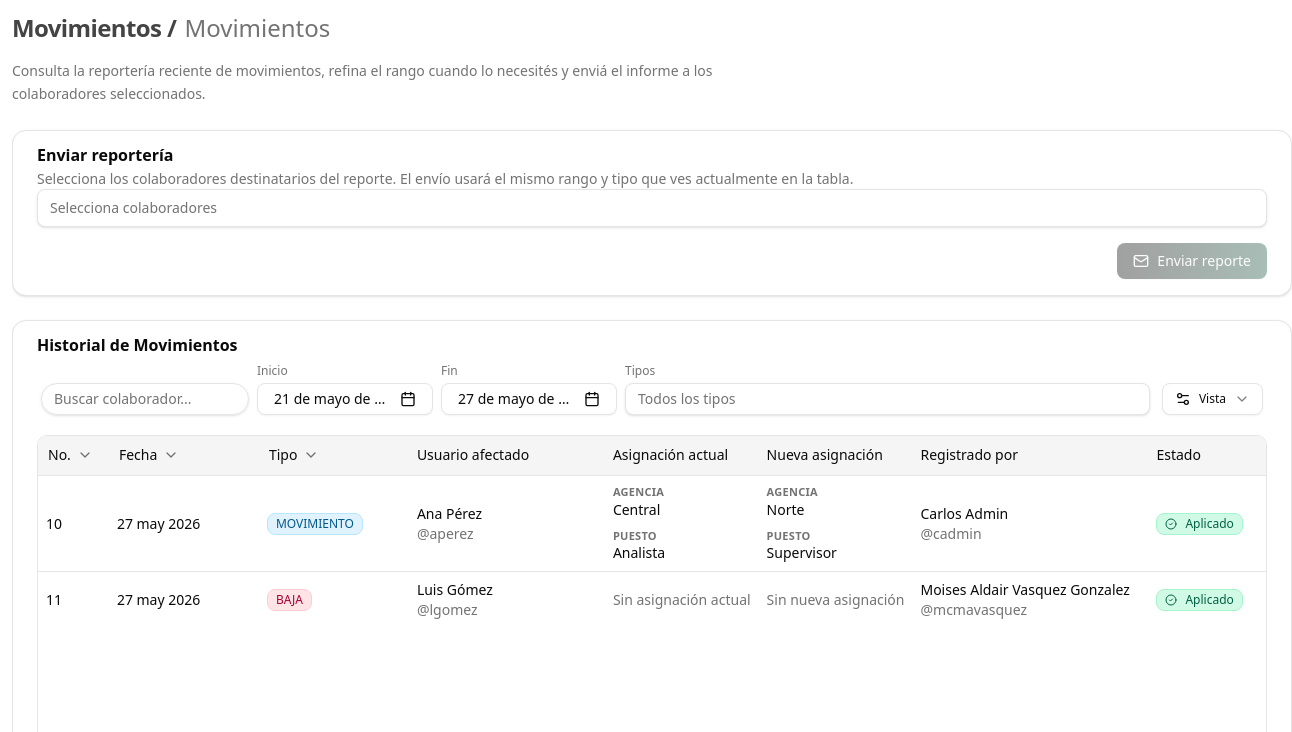
Scenario: MovimientosPage › filtra localmente las filas de la tabla con la búsqueda
In the field with placeholder "Buscar colaborador...": (145, 398) x1=41 y1=382 x2=249 y2=414, type "moises"
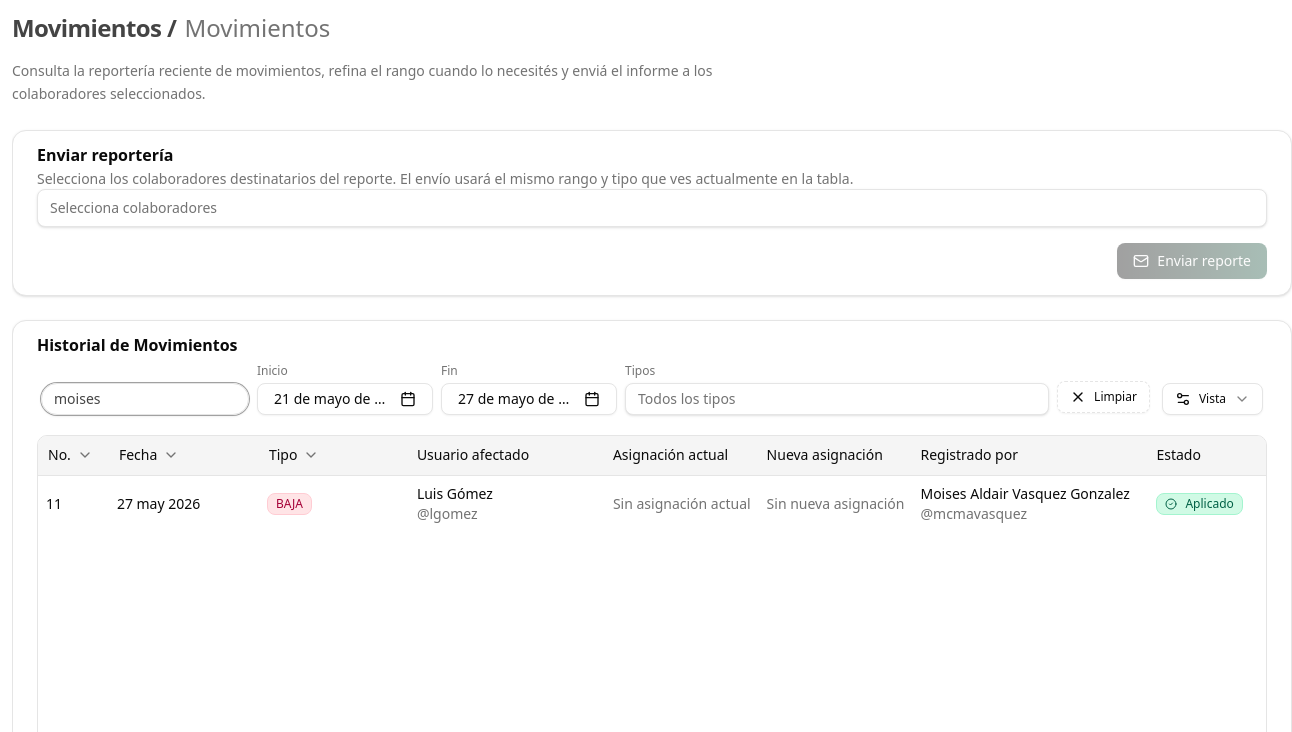
Expected: the text "Moises Aldair Vasquez Gonzalez" is shown, x1=920 y1=484 x2=1140 y2=504
Expected: the text "Carlos Admin" is gone
